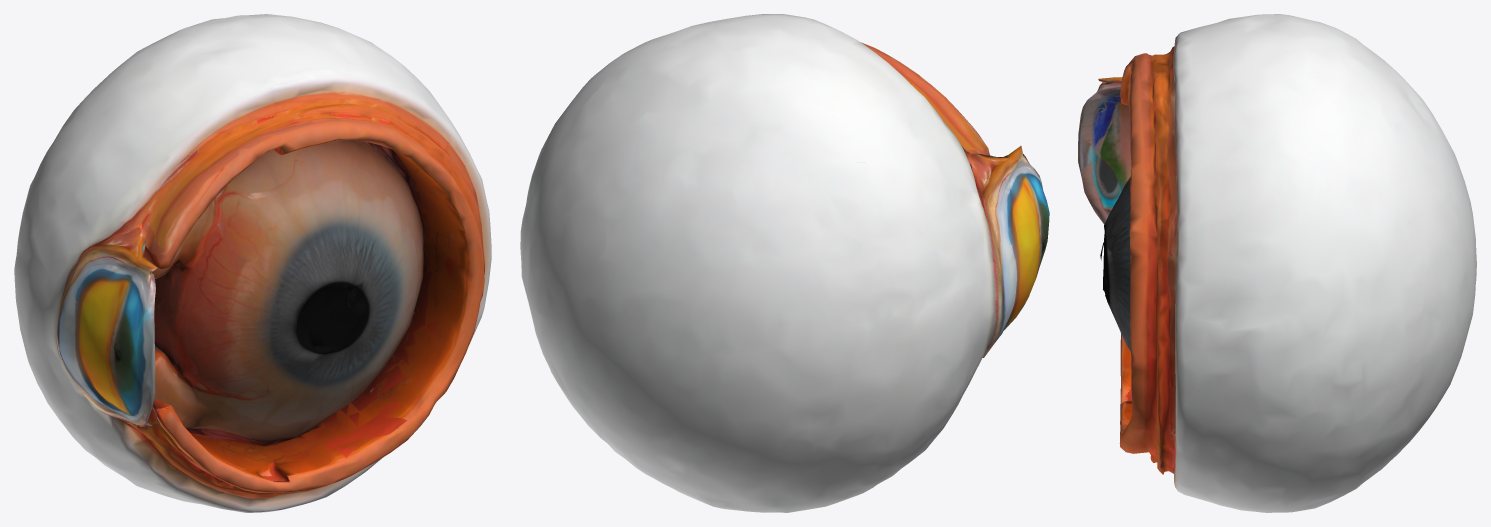
Rendered from EYE.glb.
The picture shows the model from 3 angles, left to right: view 1: azimuth 30°, elevation 25°; view 2: azimuth 150°, elevation 25°; view 3: azimuth 270°, elevation 25°; orthographic projection.
Bounding box in the file's own units: 1.99 × 2 × 1.6.
Materials: 1 (1 with a texture image).
